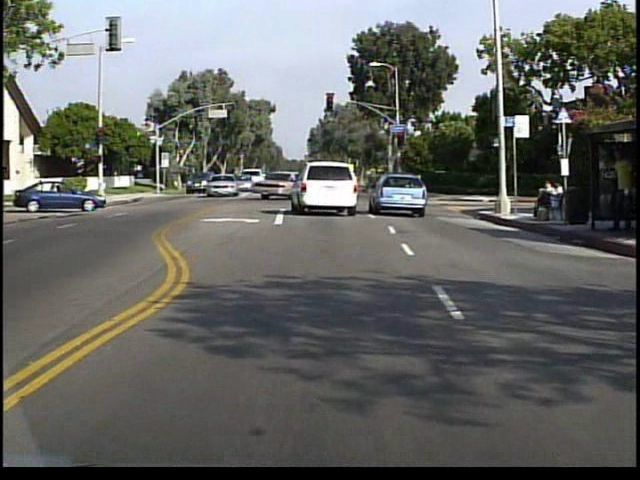person: (532, 178, 554, 218), (551, 178, 566, 220)
